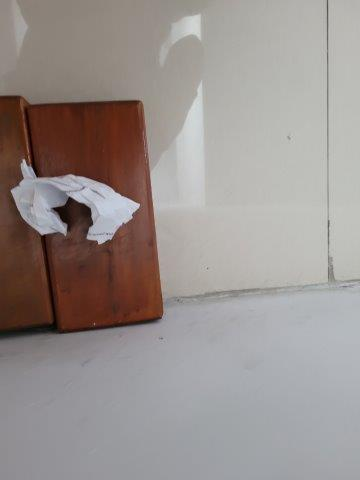kertas: (10, 159, 141, 243)
